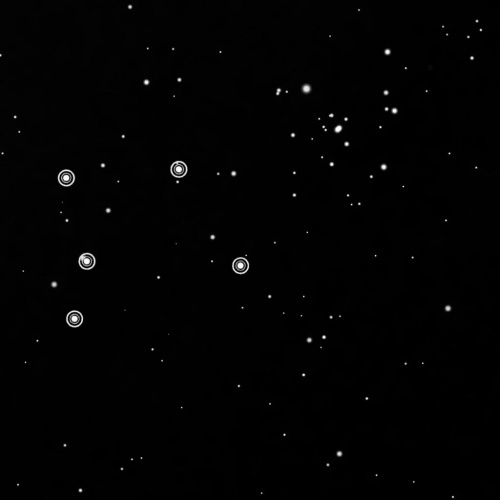libra: (48, 154, 254, 333)
